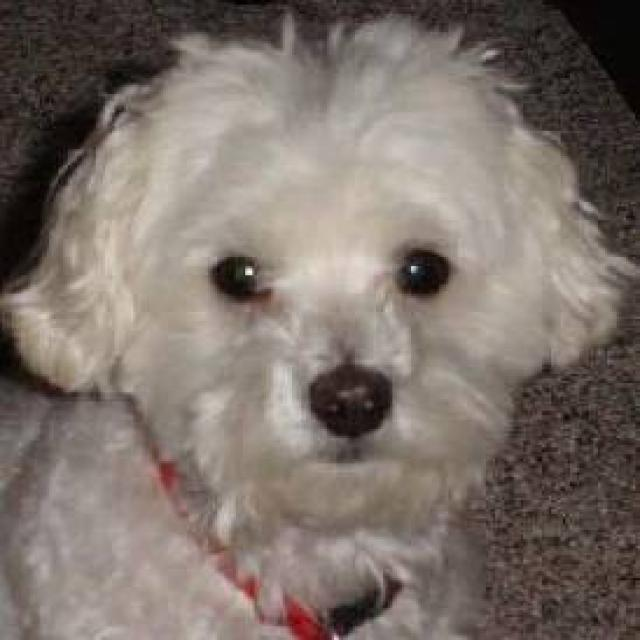dog: (0, 7, 638, 638)
